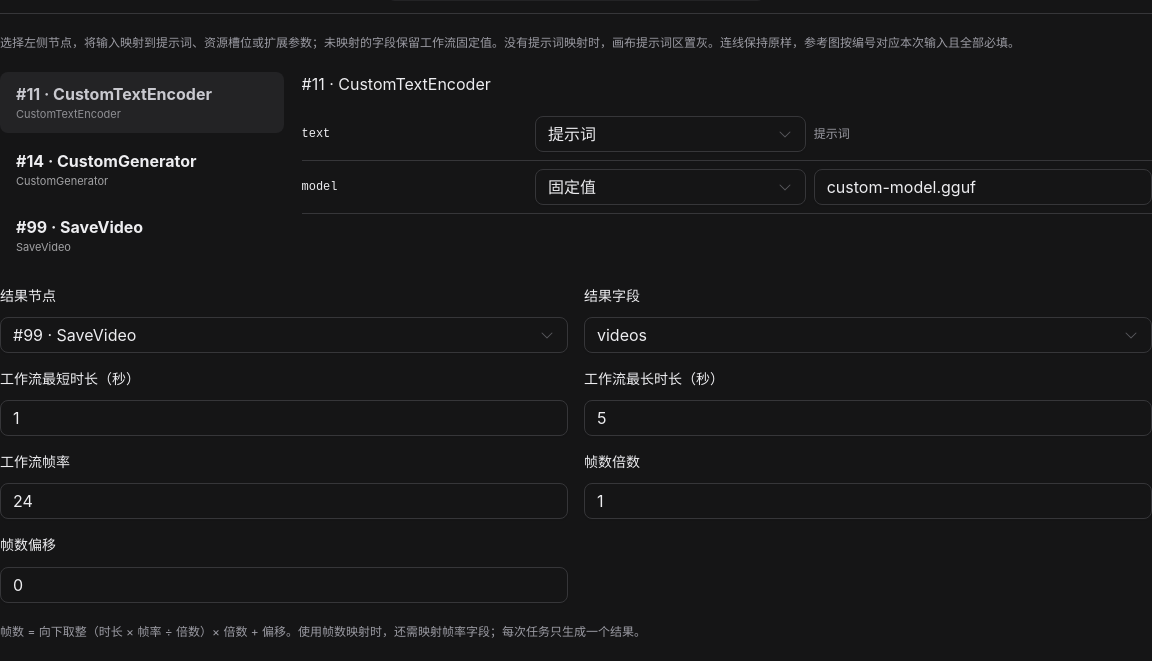
ComfyWorkflowEditor › preserves published base dimensions until the last binding is removed and remapped
Step 1. Click the button "#14 · CustomGenerator CustomGenerator" → (142, 169), box [0,138,284,199]
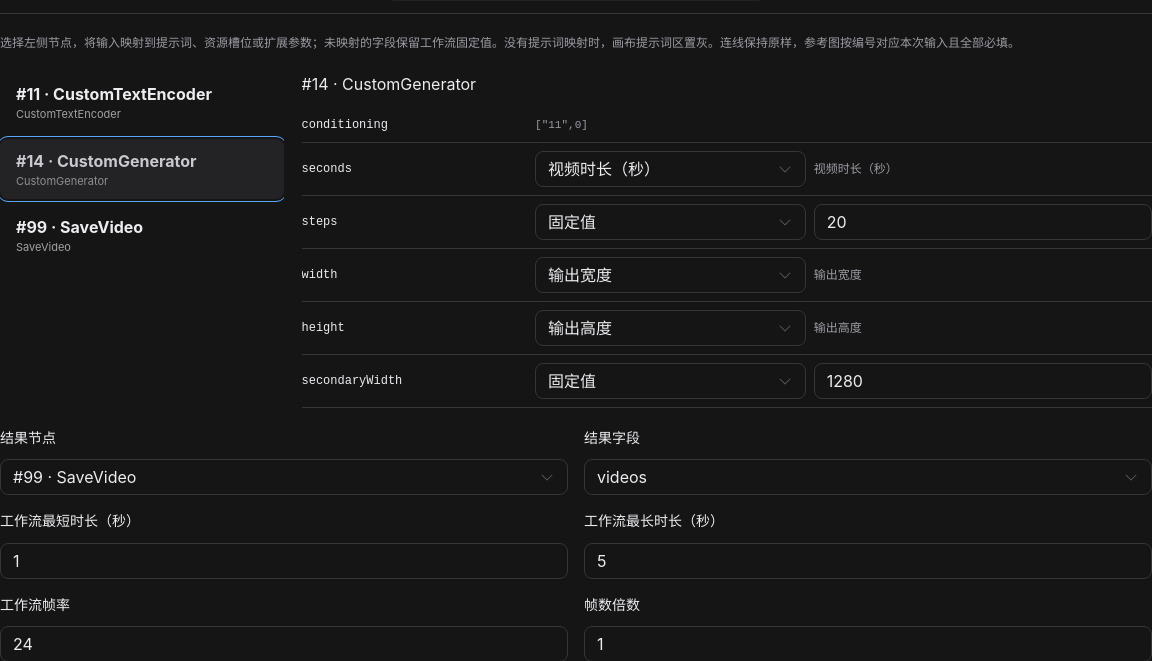
Step 2. Replace the text in the number field named "steps 的固定值" with "30" → (983, 222), box [814,204,1151,240]
Step 3. Click the dropdown named "width 的参数来源" → (580, 275), box [535,257,806,293]
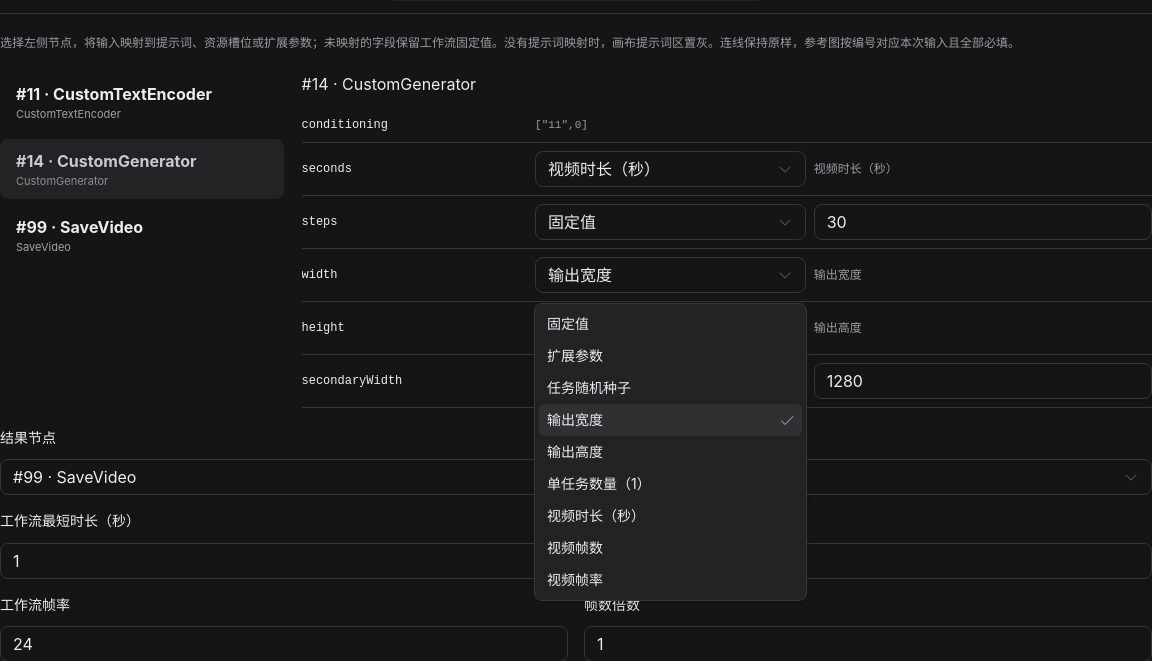
Step 4. Click the option "固定值" → (568, 324), box [547,315,589,332]
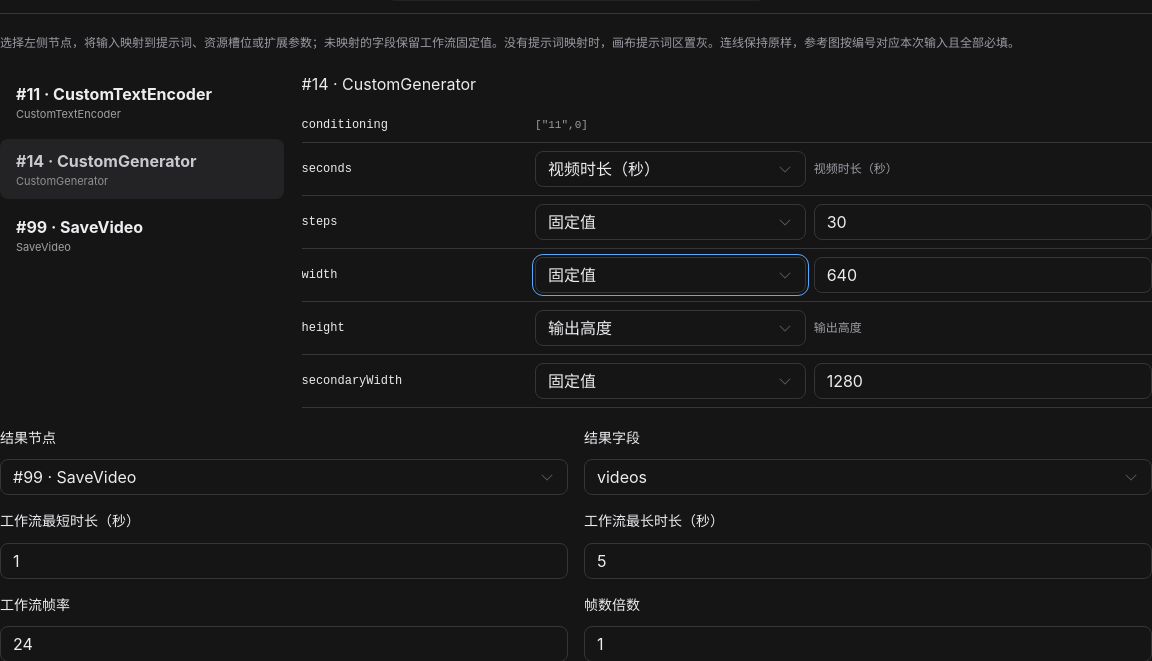
Step 5. Replace the text in the number field named "width 的固定值" with "800" → (983, 275), box [814,257,1151,293]
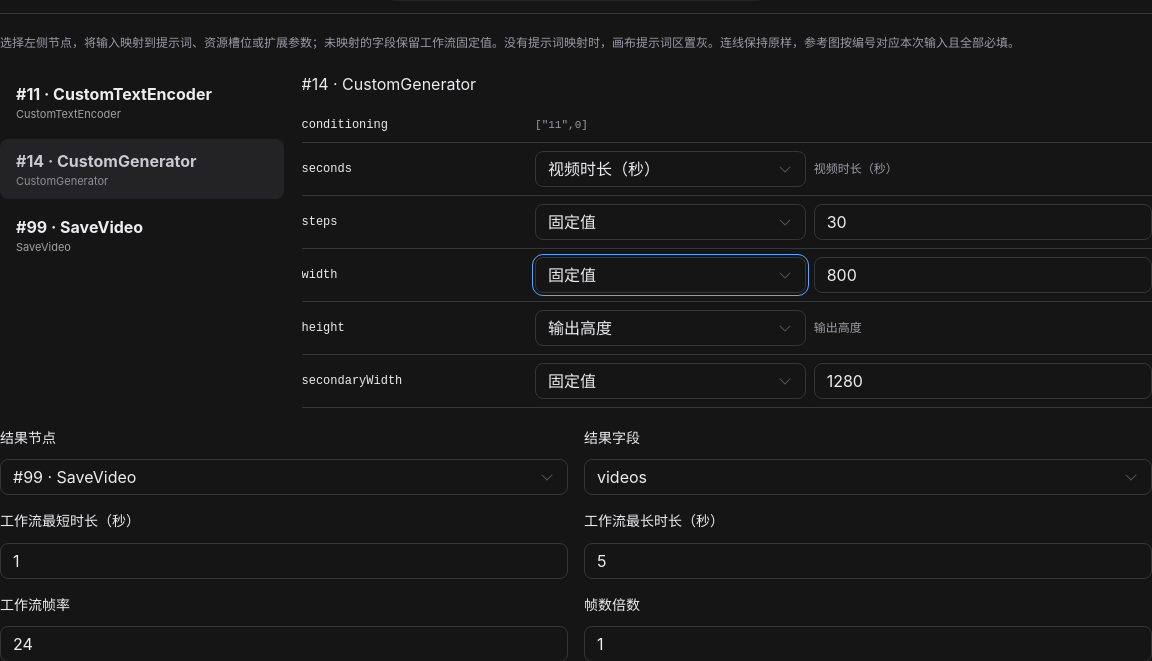
Step 6. Click the dropdown named "width 的参数来源" → (572, 275), box [535,257,806,293]
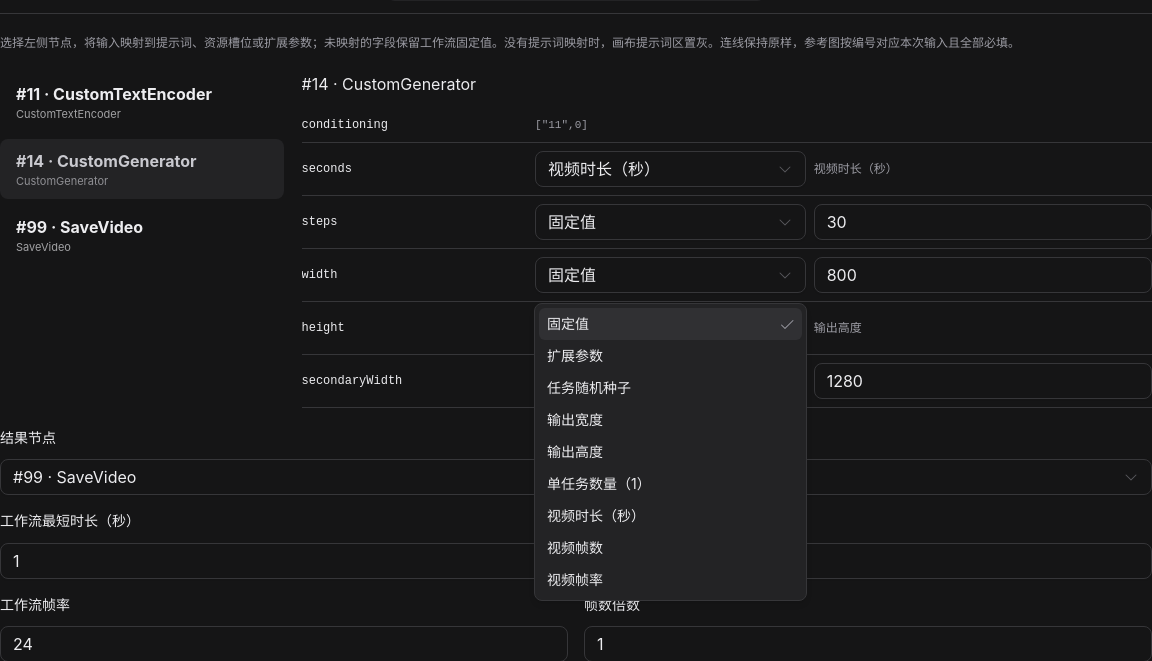
Step 7. Click the option "输出宽度" → (575, 420), box [547,411,603,428]
(page scrolled)
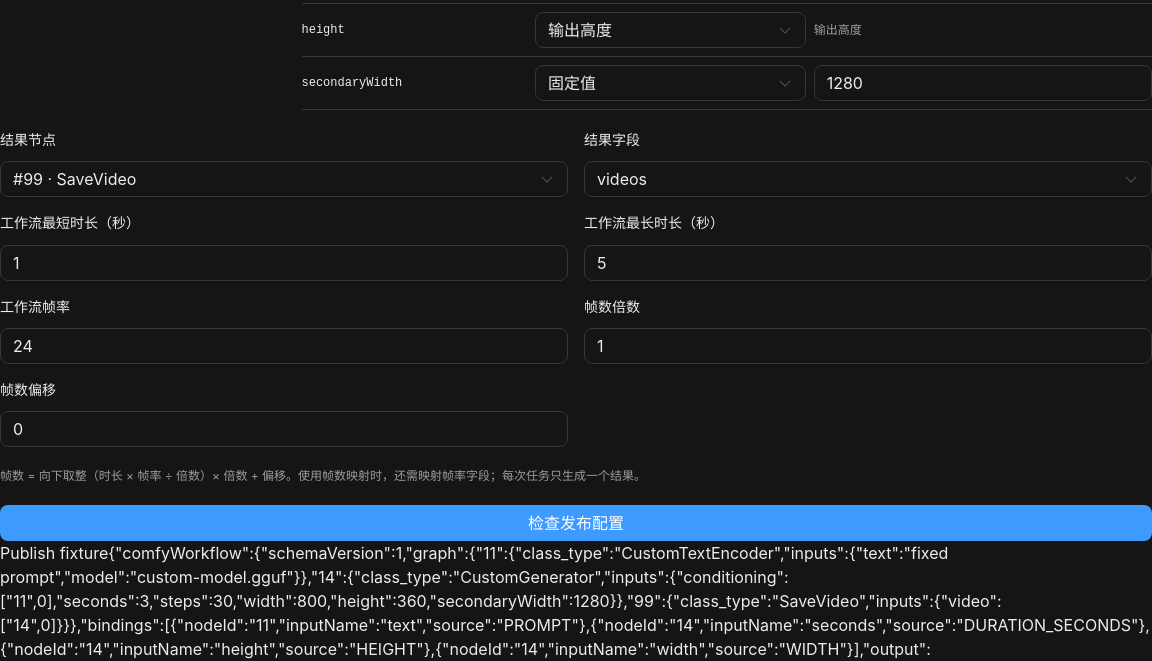
Expected: the button "Publish fixture" is enabled, [0,541,108,565]
